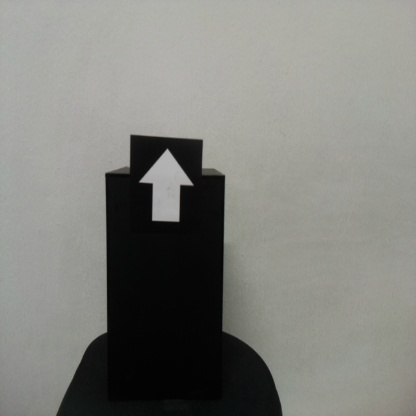id_1: (130, 137, 203, 237)
